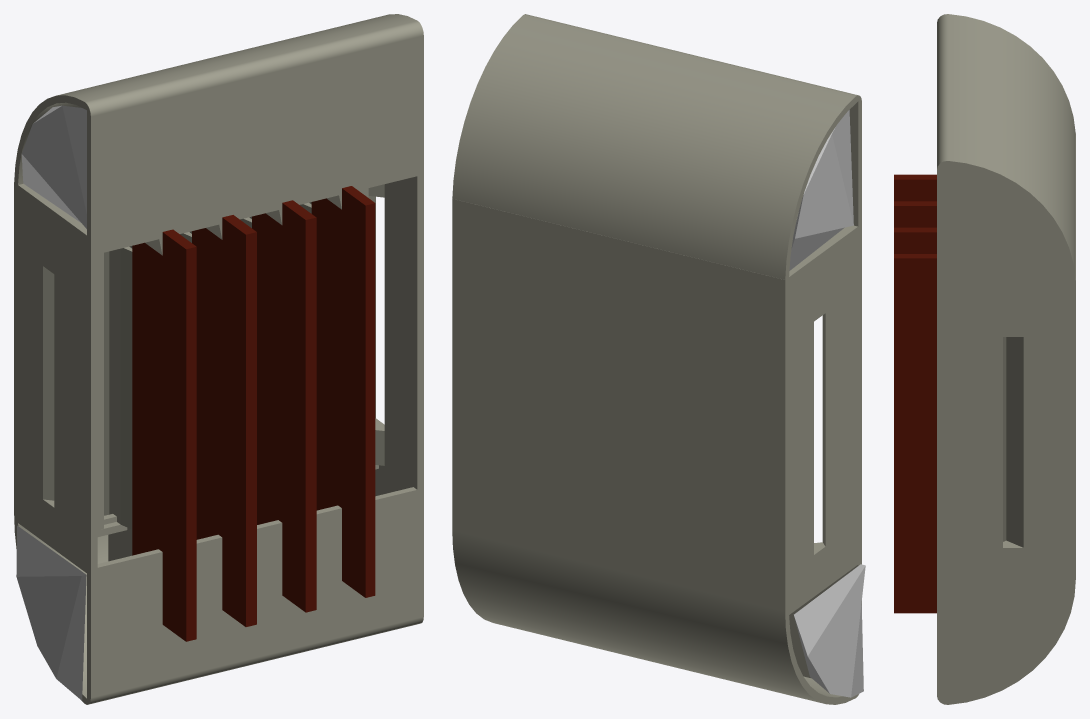
3 views of the same model, side by side, from view 1: azimuth 30°, elevation 25°; view 2: azimuth 150°, elevation 25°; view 3: azimuth 270°, elevation 25° (orthographic). The views are drawn at different scales.
Visible parts, largest first — view 1: 0901203改 組合.2.mesh, 立方体.003.6.mesh, 立方体.002.5.mesh, 立方体.001.4.mesh, 立方体.006.3.mesh, 立方体.004.12.mesh, 立方体.005.13.mesh; view 2: 0901203改 組合.2.mesh, 立方体.004.12.mesh, 立方体.005.13.mesh; view 3: 0901203改 組合.2.mesh, 立方体.006.3.mesh, 立方体.003.6.mesh, 立方体.002.5.mesh, 立方体.001.4.mesh.
Part boxes in pixels (bbox=[...]): 0901203改 組合.2.mesh: bbox=[14, 14, 423, 704]; 立方体.003.6.mesh: bbox=[132, 229, 196, 641]; 立方体.002.5.mesh: bbox=[192, 215, 256, 626]; 立方体.001.4.mesh: bbox=[252, 200, 316, 612]; 立方体.006.3.mesh: bbox=[311, 186, 375, 597]; 立方体.004.12.mesh: bbox=[16, 525, 86, 700]; 立方体.005.13.mesh: bbox=[21, 105, 86, 228]; 0901203改 組合.2.mesh: bbox=[452, 14, 861, 704]; 立方体.004.12.mesh: bbox=[794, 564, 865, 697]; 立方体.005.13.mesh: bbox=[789, 110, 853, 270]; 0901203改 組合.2.mesh: bbox=[937, 14, 1075, 704]; 立方体.006.3.mesh: bbox=[894, 254, 936, 613]; 立方体.003.6.mesh: bbox=[894, 174, 936, 201]; 立方体.002.5.mesh: bbox=[894, 201, 936, 227]; 立方体.001.4.mesh: bbox=[894, 227, 936, 253].
Size of the model in its own units: 104 by 173 by 52.3.
